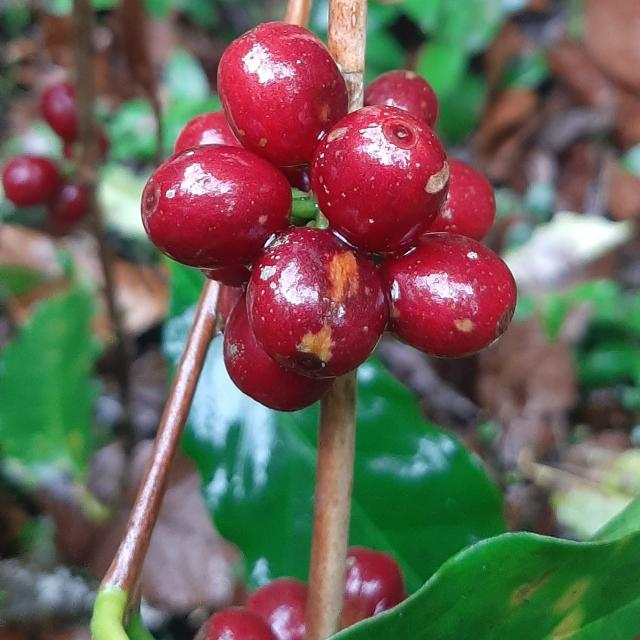red: (246, 227, 389, 378), (311, 105, 450, 253), (217, 21, 349, 167), (141, 144, 291, 269), (382, 233, 517, 358), (223, 293, 333, 412), (428, 158, 497, 240), (341, 547, 407, 630), (364, 69, 439, 129), (246, 579, 308, 640), (174, 110, 243, 153), (194, 608, 276, 640)
